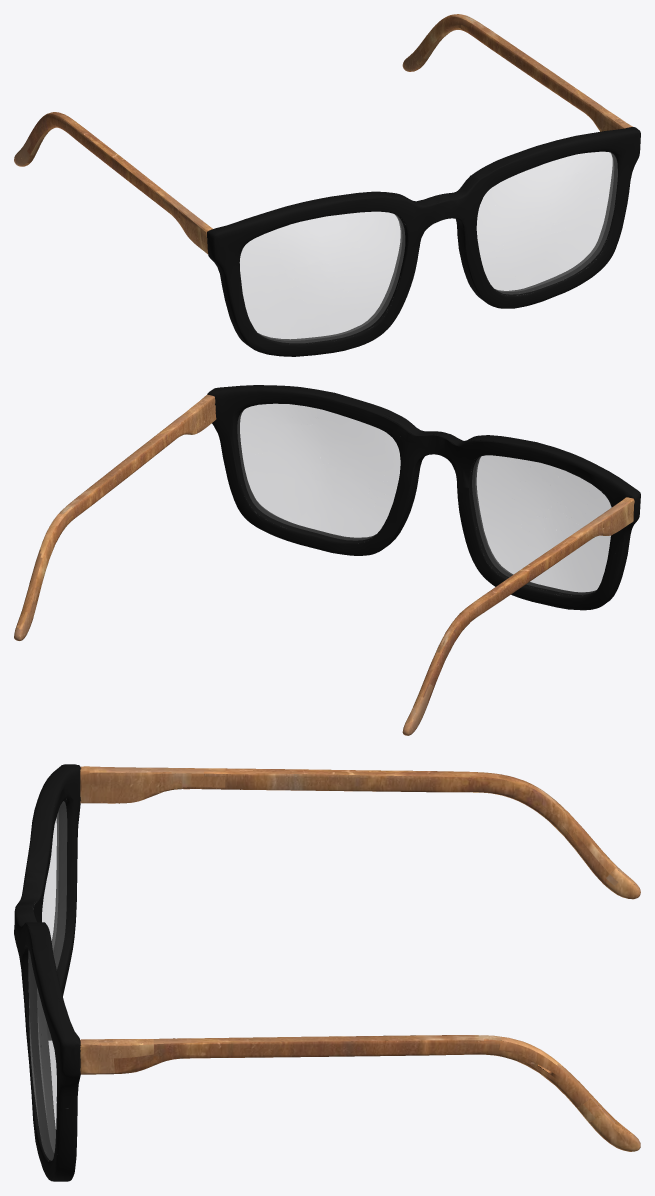
Rendered from glasses-2.glb.
The picture shows the model from 3 angles, top to bottom: view 1: azimuth 30°, elevation 25°; view 2: azimuth 150°, elevation 25°; view 3: azimuth 270°, elevation 25°; orthographic projection. The views are drawn at different scales.
Parts seen in each view (by area): view 1: Object_2, Object_0, Object_1; view 2: Object_2, Object_0, Object_1; view 3: Object_1, Object_0, Object_2.
Part boxes in pixels (x1=…): Object_2: x1=240, y1=152, x2=617, y2=342; Object_0: x1=207, y1=127, x2=640, y2=356; Object_1: x1=14, y1=14, x2=632, y2=254; Object_2: x1=237, y1=404, x2=611, y2=594; Object_0: x1=207, y1=385, x2=640, y2=610; Object_1: x1=14, y1=394, x2=634, y2=735; Object_1: x1=80, y1=766, x2=640, y2=1151; Object_0: x1=14, y1=764, x2=80, y2=1181; Object_2: x1=28, y1=801, x2=66, y2=1160.
Bounding box in the file's own units: 0.145 × 0.0497 × 0.1376.
Materials: 3 (1 with a texture image).
